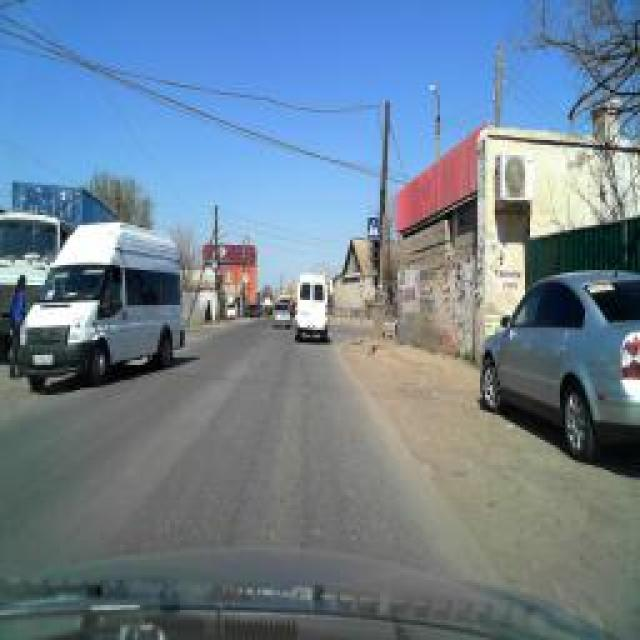sign: (368, 218, 380, 240), (212, 256, 220, 269)
